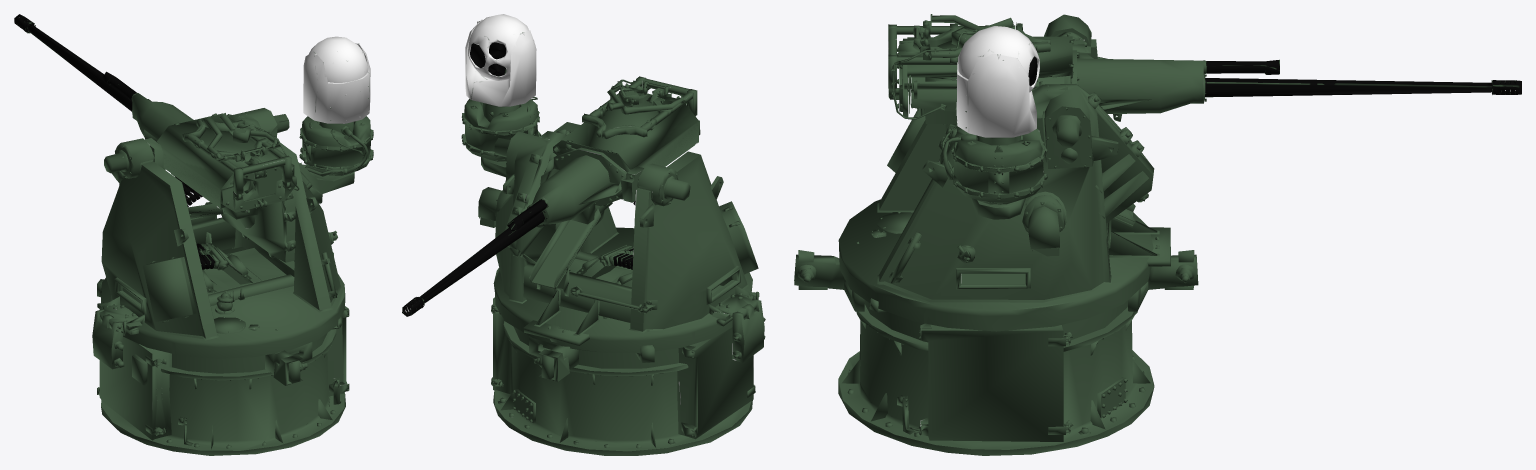
File: Autoturret.glb
The picture shows the model from 3 angles, left to right: view 1: azimuth 30°, elevation 25°; view 2: azimuth 150°, elevation 25°; view 3: azimuth 270°, elevation 25°; orthographic projection. The views are drawn at different scales.
Visible parts, largest first — view 1: a; view 2: a; view 3: a.
Part boxes in pixels (box(x1,y1,x2,y2)): a: box(14, 14, 373, 455); a: box(402, 14, 765, 455); a: box(794, 14, 1521, 455).
Bounding box in the file's own units: 3.24 × 3.85 × 5.88.
Materials: 1 (1 with a texture image).
